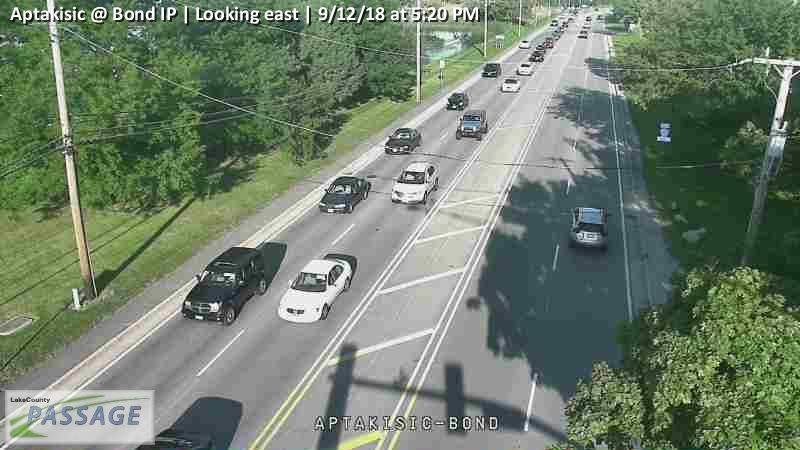SUV: (180, 246, 267, 326), (569, 207, 608, 252), (455, 110, 490, 141)
Sedan: (278, 257, 353, 324), (391, 161, 440, 204), (319, 175, 371, 215), (385, 128, 421, 156), (446, 90, 470, 111), (481, 62, 502, 78), (501, 77, 521, 92), (518, 61, 536, 75), (530, 51, 545, 61), (543, 37, 553, 49), (519, 40, 532, 49), (577, 29, 590, 38), (551, 30, 560, 40), (583, 16, 593, 25), (550, 18, 558, 25)
